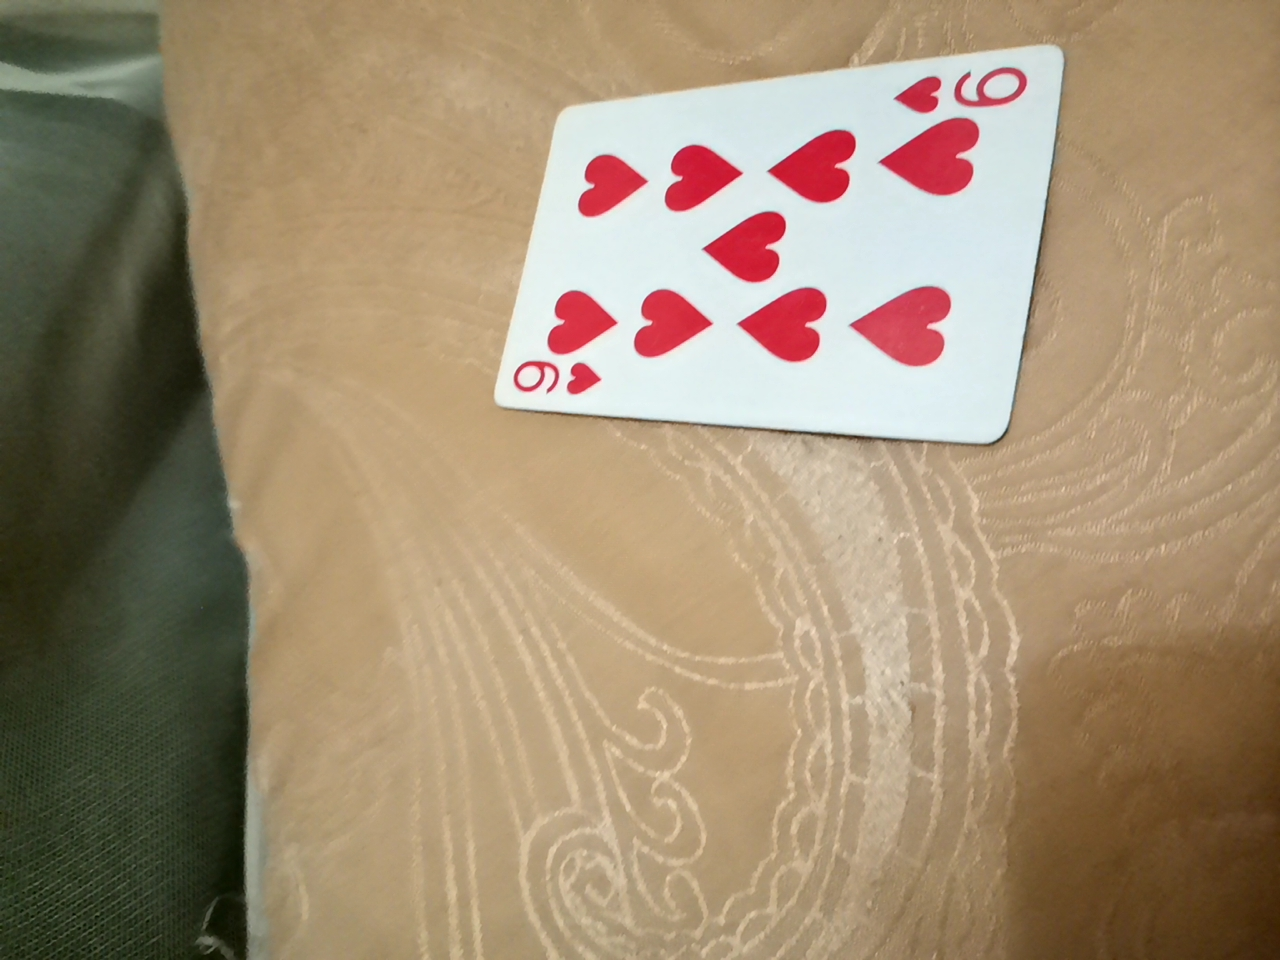hx 9: (476, 76, 1043, 479)
